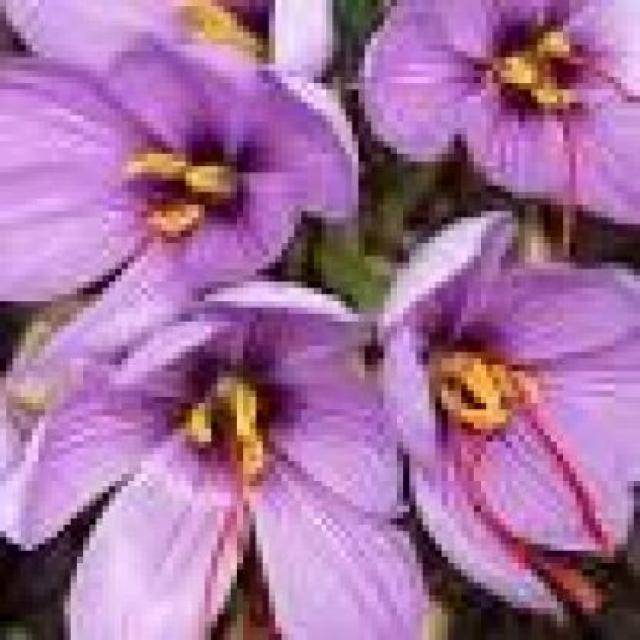saffron open: (1, 0, 356, 305), (389, 211, 640, 614), (366, 0, 640, 222)
